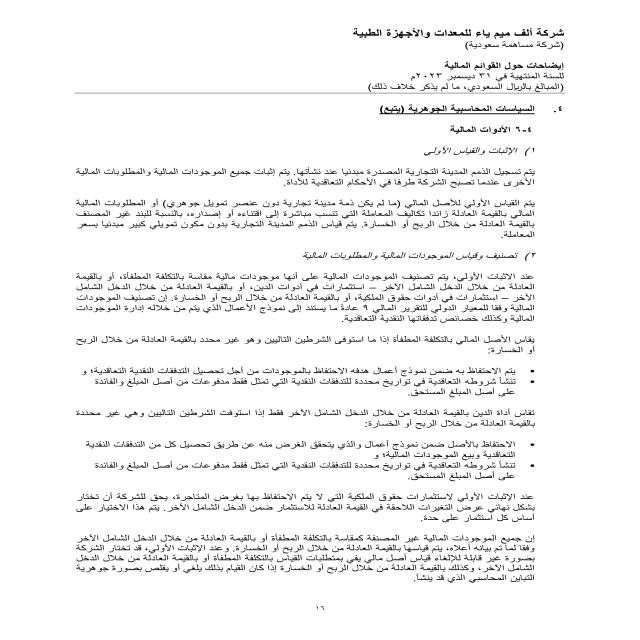notes: (441, 60, 569, 73)
text: (37, 99, 569, 588)
